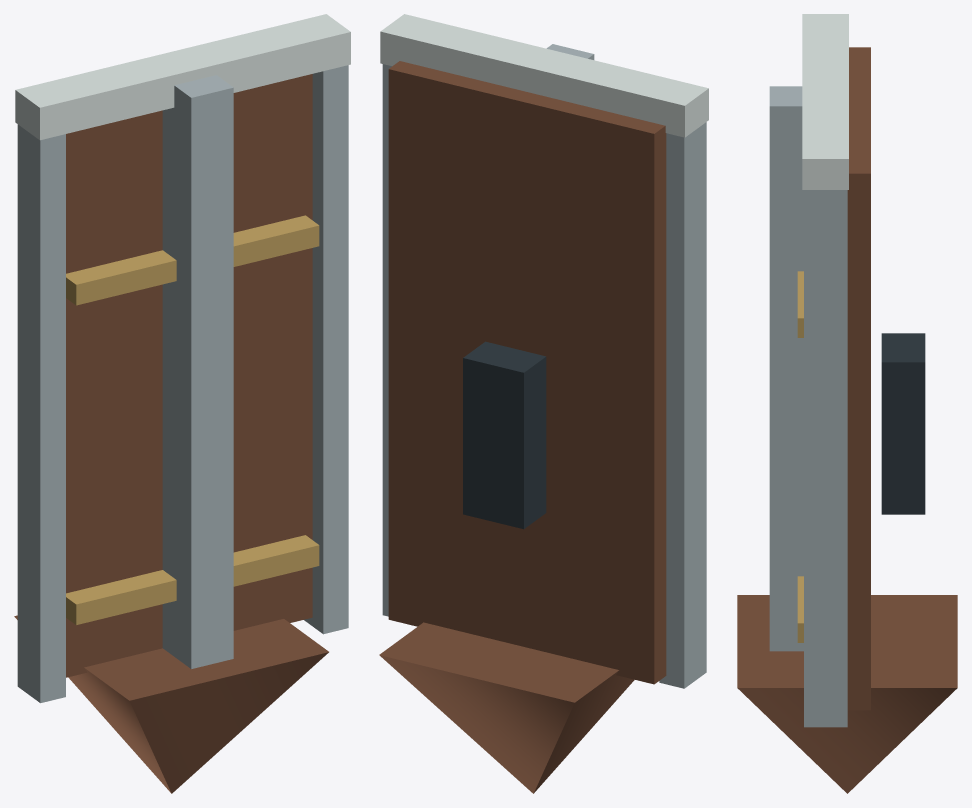
File: fixed-tower.glb
3 views of the same model, side by side, from view 1: azimuth 30°, elevation 25°; view 2: azimuth 150°, elevation 25°; view 3: azimuth 270°, elevation 25° (orthographic). The views are drawn at different scales.
Visible parts, largest first — view 1: piece_whole; view 2: piece_whole; view 3: piece_whole.
Part boxes in pixels (<box>): piece_whole: <box>14,14,350,793</box>; piece_whole: <box>379,14,708,793</box>; piece_whole: <box>737,14,957,793</box>.
Size of the model in its own units: 0.55 by 1.25 by 0.3536.
